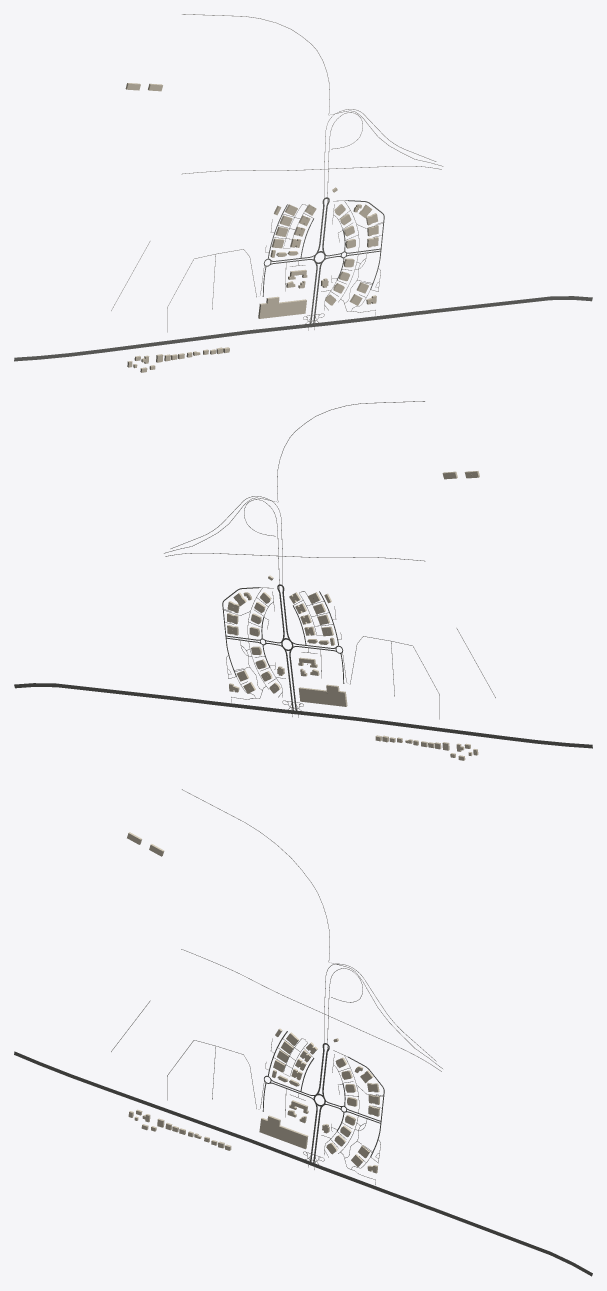
Rendered from historic-palestine-07_29_3493_3232.glb.
3 renders of one model, top to bottom at view 1: azimuth 30°, elevation 25°; view 2: azimuth 150°, elevation 25°; view 3: azimuth 330°, elevation 25°, orthographic.
Visible parts, largest first — view 1: Road העצמאות, Building_.017; view 2: Road העצמאות, Building_.017; view 3: Road העצמאות, Building_.017.
Boxes of the visible parts, x1,y1,x2,y2 form: Road העצמאות: (14, 296, 592, 361); Building_.017: (258, 296, 306, 318); Road העצמאות: (14, 683, 592, 748); Building_.017: (298, 684, 347, 706); Road העצמאות: (14, 1051, 592, 1276); Building_.017: (259, 1115, 308, 1149).
Size of the model in its own units: 1985 by 1269 by 10.5.
